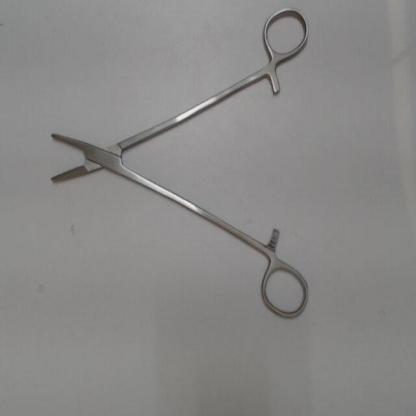8 Mayo Needle Holder: (42, 3, 315, 329)
